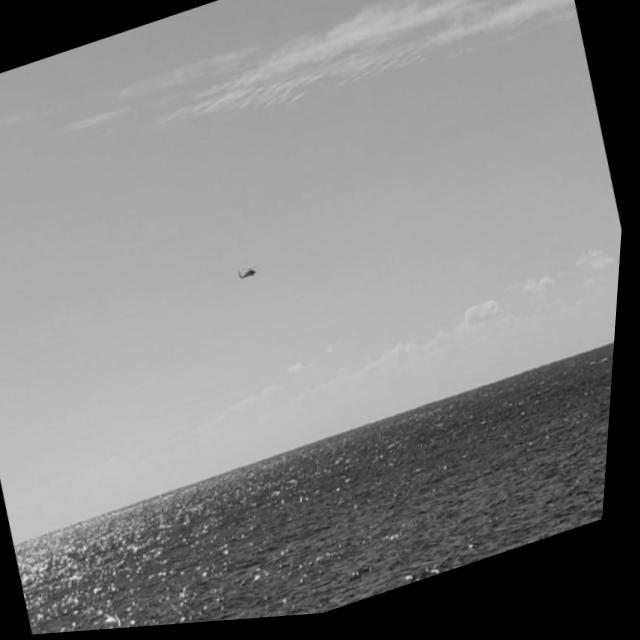helikopter: (190, 226, 298, 337)
